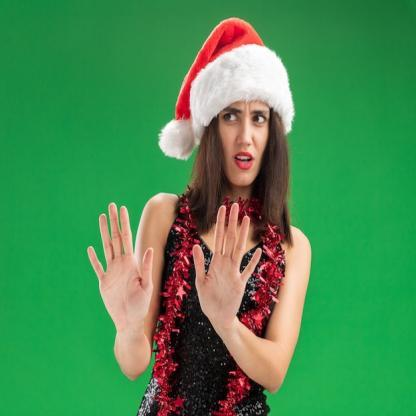stop: (84, 200, 157, 334), (190, 202, 264, 324)
